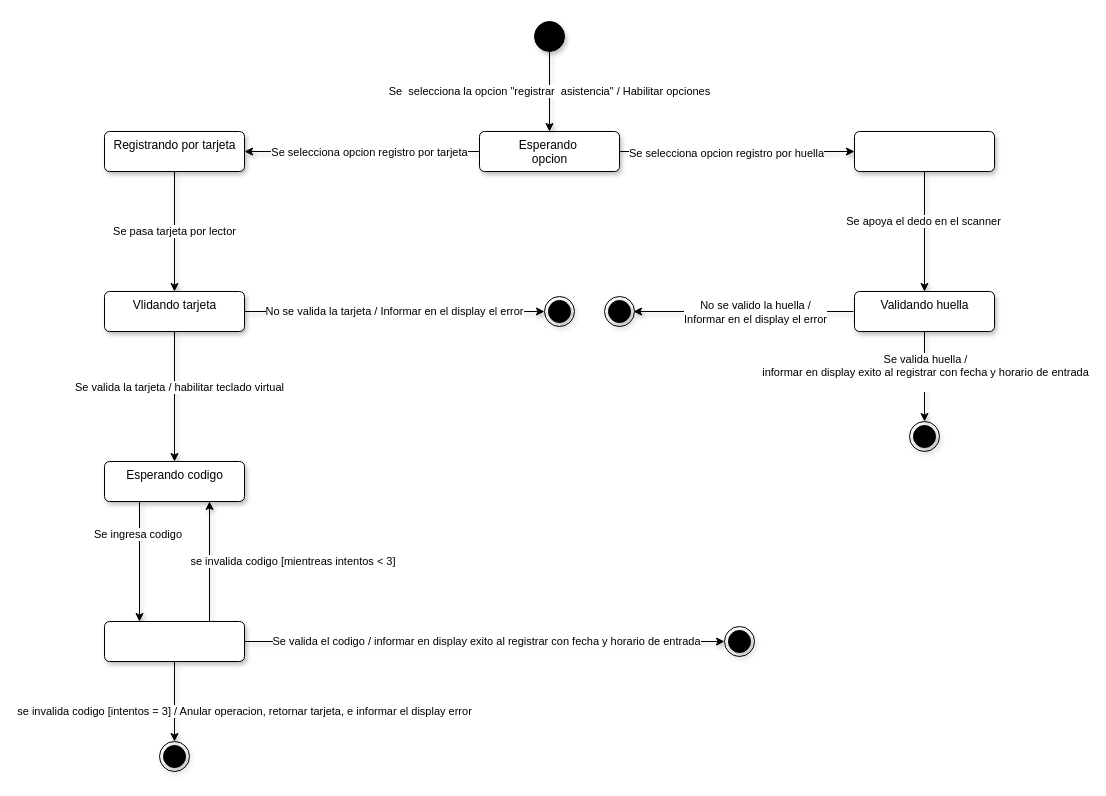
This 1106x796 diagram has some shape labels left out. The centre of each missing label's shape, as x and y in pixels:
Registrando por huella: the point at 925,152
Validando codigo: the point at 175,642
